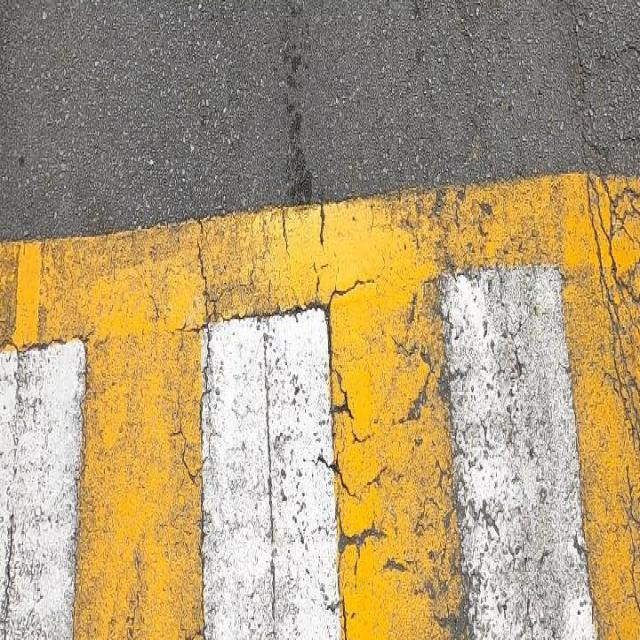cracks: (302, 90, 490, 637), (588, 0, 640, 636), (150, 216, 223, 634)
